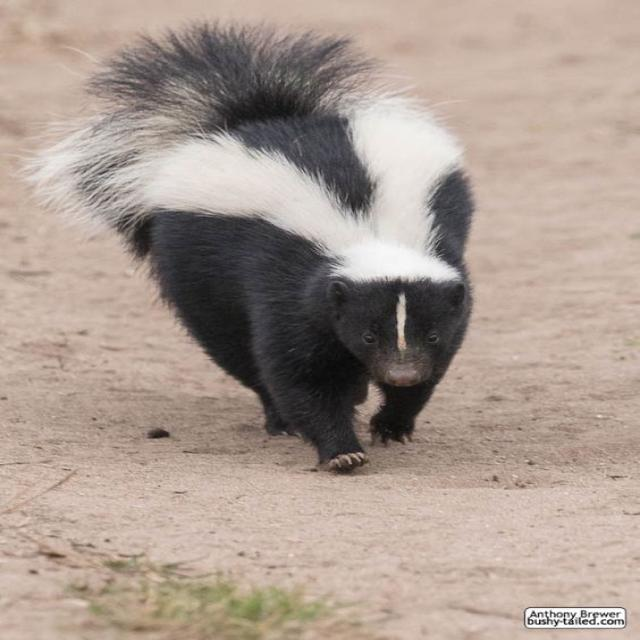Skunk: (48, 0, 514, 489)
